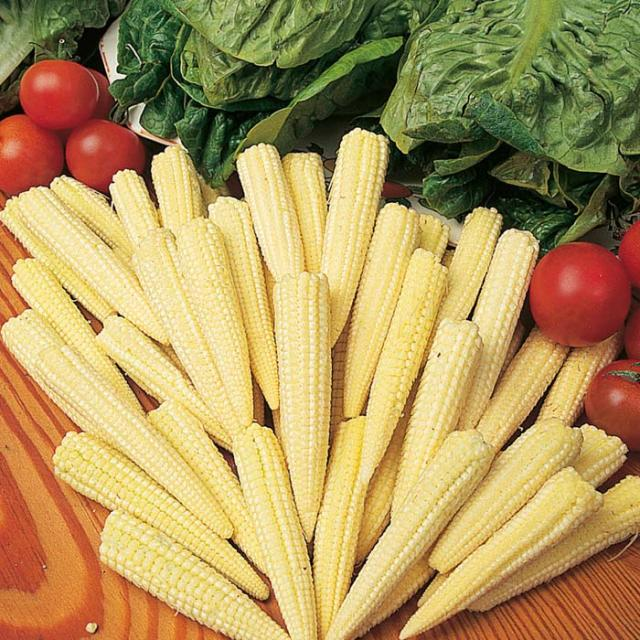corn: (20, 188, 549, 575)
